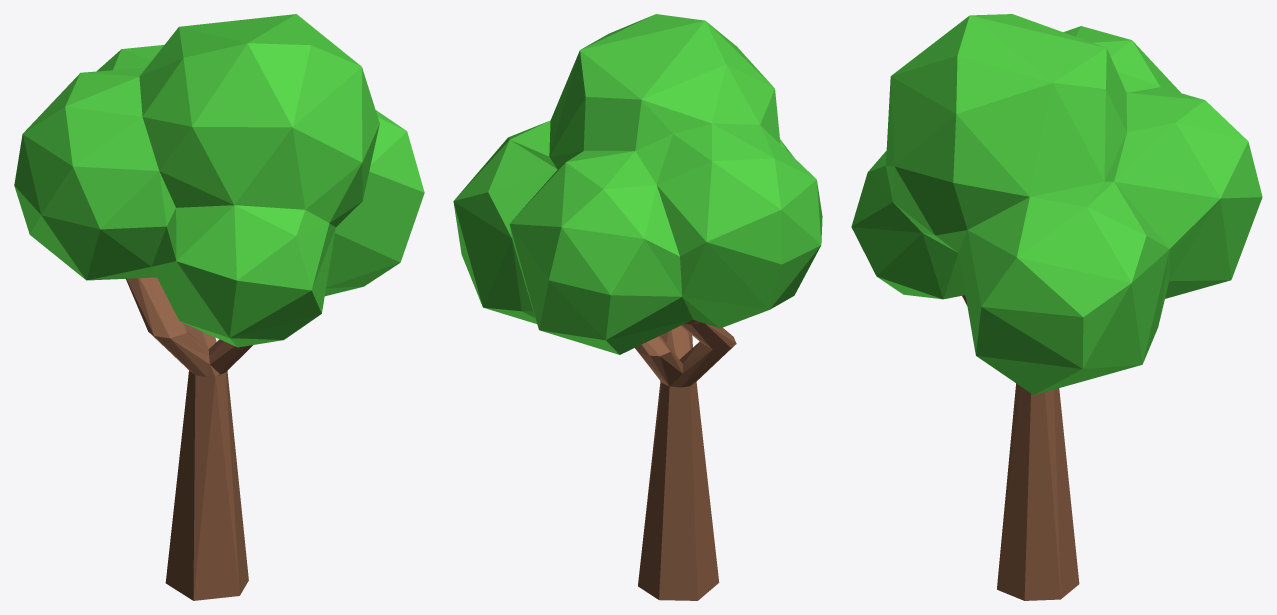
Rendered from OakTree.fbx.
3 views of the same model, side by side, from view 1: azimuth 30°, elevation 25°; view 2: azimuth 150°, elevation 25°; view 3: azimuth 270°, elevation 25° (orthographic). The views are drawn at different scales.
Visible parts, largest first — view 1: Icosphere.004, Cylinder; view 2: Icosphere.004, Cylinder; view 3: Icosphere.004, Cylinder.
Boxes of the visible parts, left/top/right/bottom form: Icosphere.004: left=14, top=14, right=424, bottom=347; Cylinder: left=126, top=277, right=252, bottom=600; Icosphere.004: left=453, top=14, right=822, bottom=354; Cylinder: left=635, top=319, right=736, bottom=600; Icosphere.004: left=851, top=14, right=1262, bottom=394; Cylinder: left=962, top=295, right=1079, bottom=600.
Size of the model in its own units: 955 by 1400 by 913.
